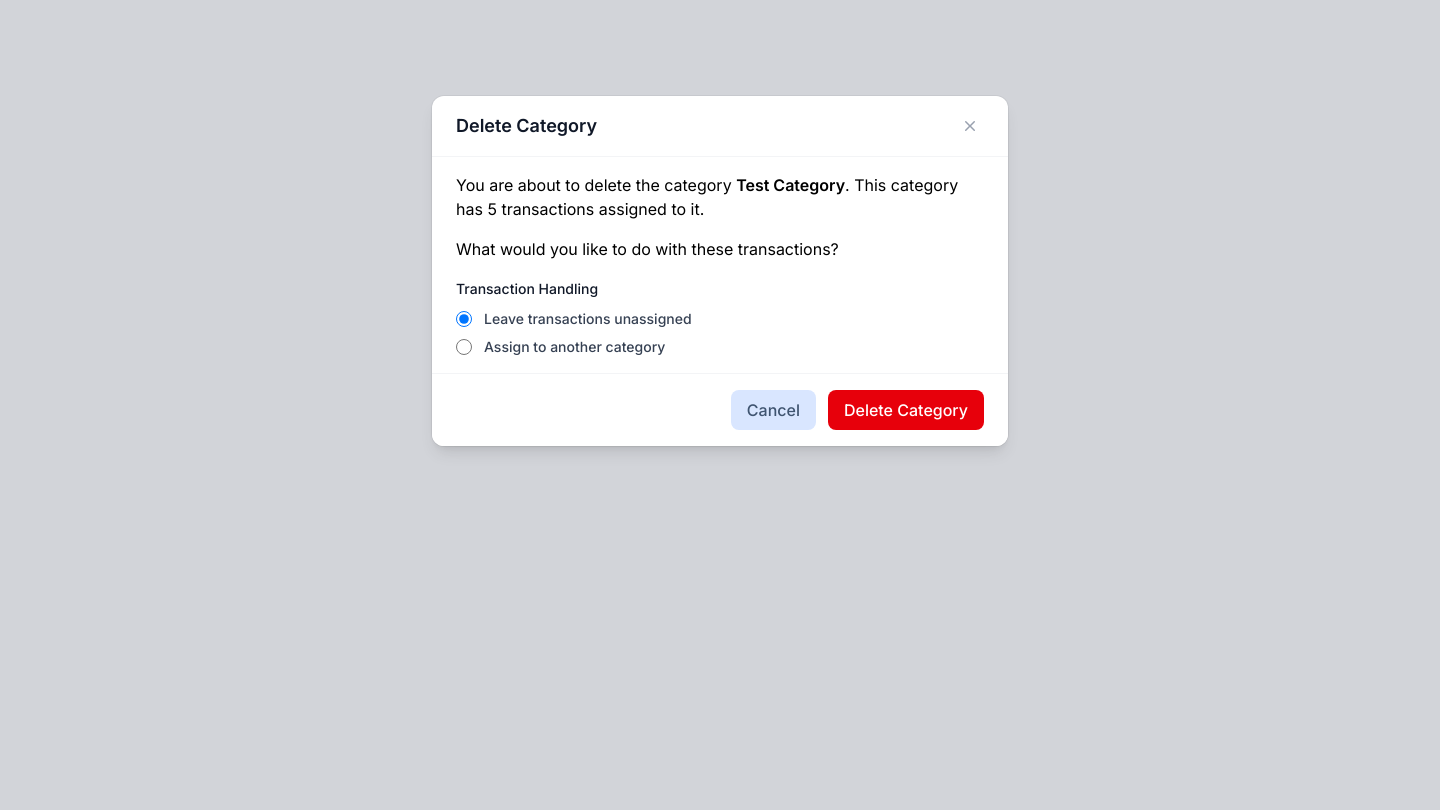
it: DeleteCategoryModal › validates replacement category selection when reassigning
Select reassign option
Click the radio button labelled "Assign to another category".
click(464, 347)  # box [456,339,472,355]
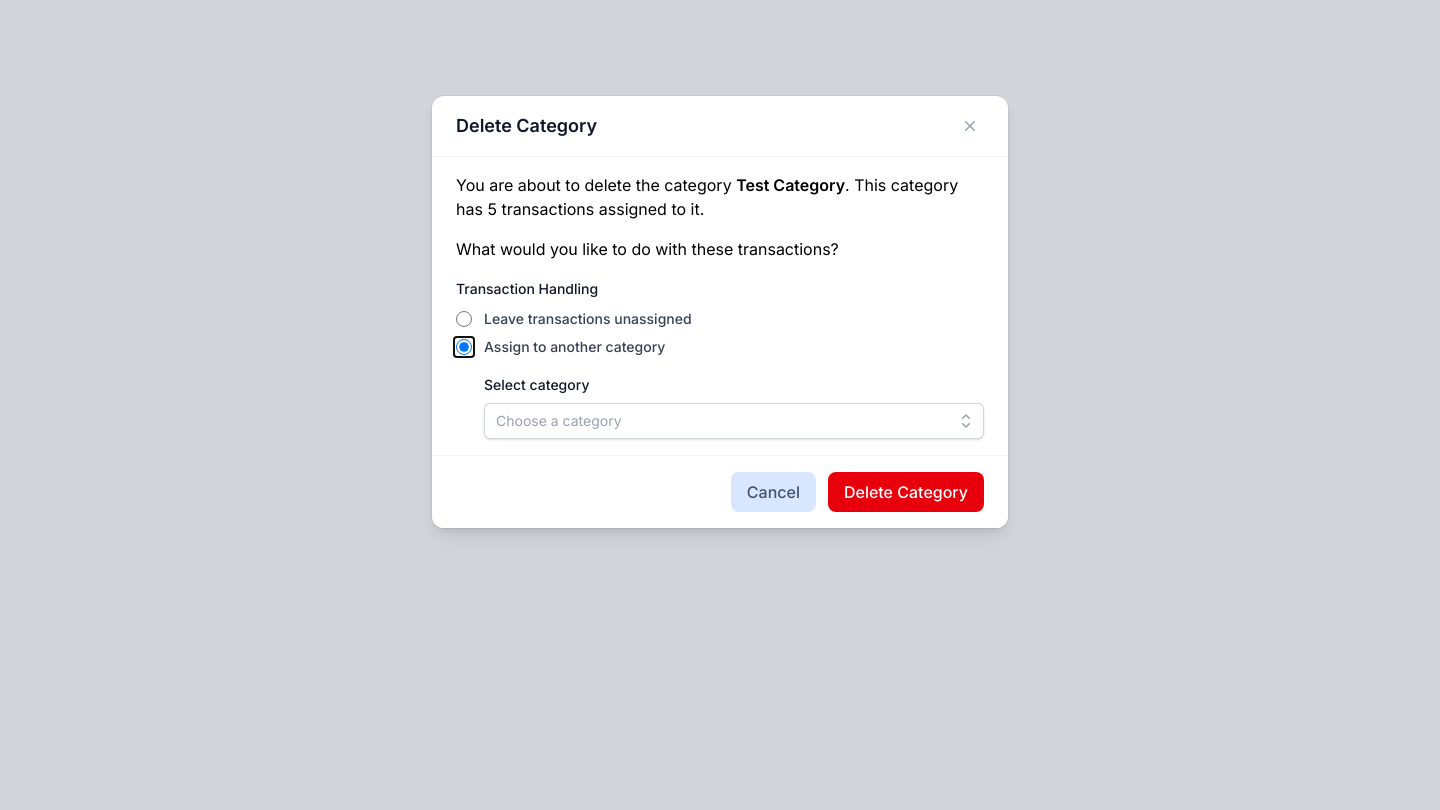
Click the button "Delete Category".
click(906, 492)  # box [828,472,984,512]
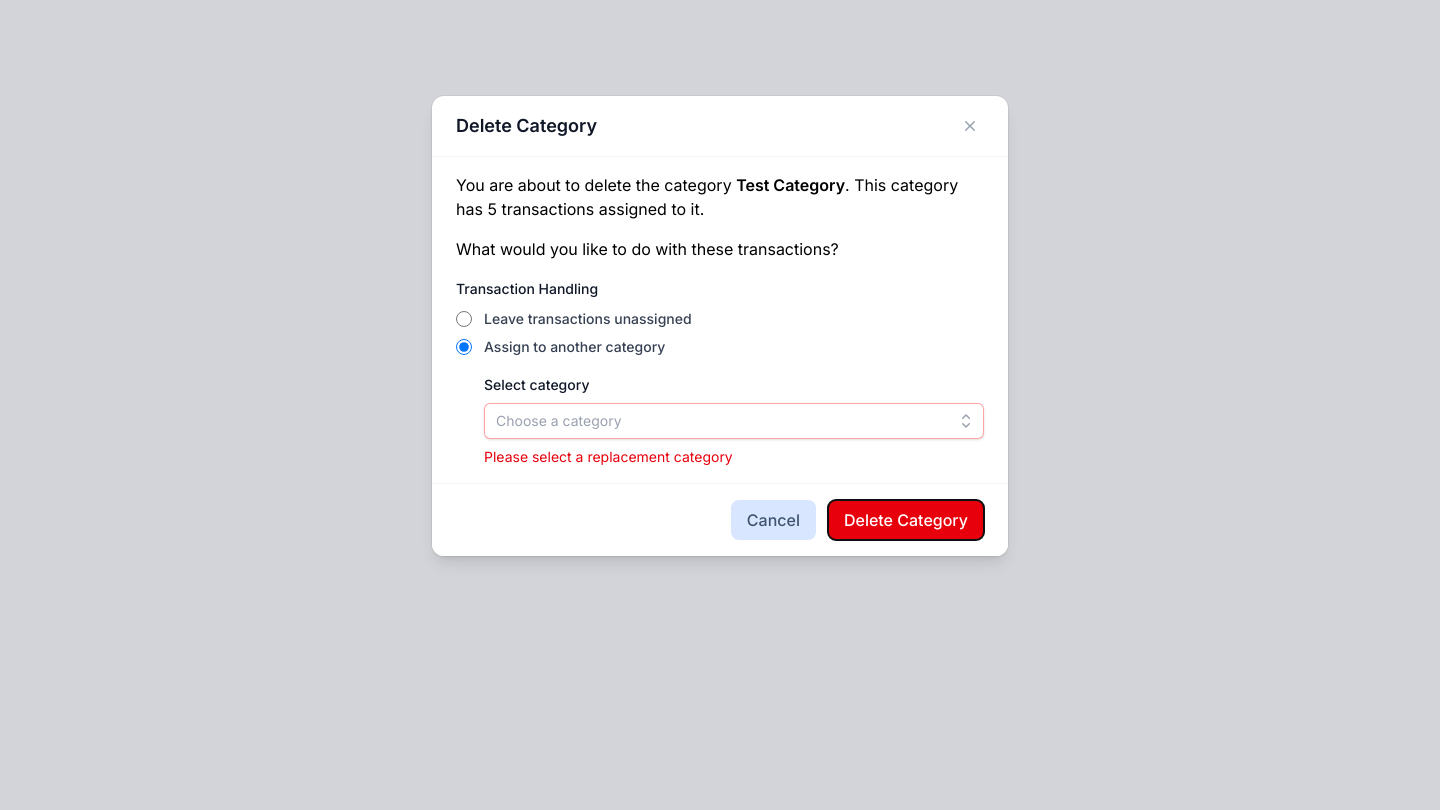
Check: the text "Please select a replacement category" is shown, box [484,448,733,465]
